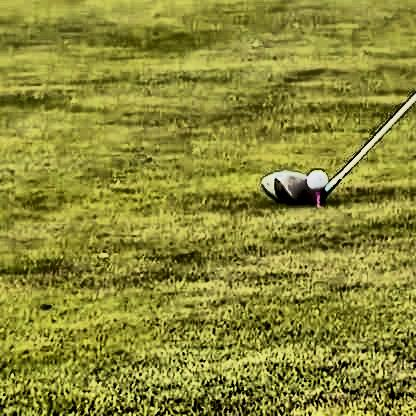golfball: (301, 166, 326, 190)
